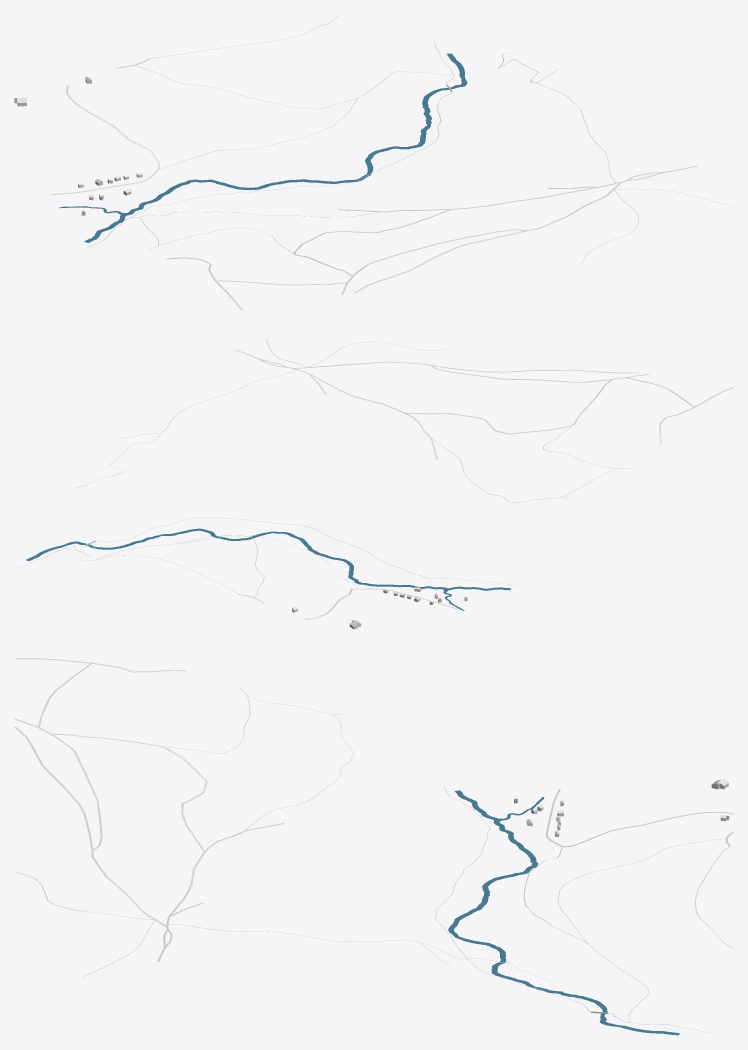
The model's file is objekty.glb.
The picture shows the model from 3 angles, top to bottom: view 1: azimuth 30°, elevation 25°; view 2: azimuth 150°, elevation 25°; view 3: azimuth 270°, elevation 25°; orthographic projection. The views are drawn at different scales.
Parts seen in each view (by area): view 1: Cesty_03_01, Voda_03_01; view 2: Cesty_03_01, Voda_03_01; view 3: Cesty_03_01, Voda_03_01.
Boxes of the visible parts, x1=… form: Cesty_03_01: x1=51, y1=15, x2=733, y2=310; Voda_03_01: x1=59, y1=53, x2=467, y2=242; Cesty_03_01: x1=14, y1=339, x2=733, y2=619; Voda_03_01: x1=26, y1=528, x2=510, y2=610; Cesty_03_01: x1=14, y1=658, x2=733, y2=1033; Voda_03_01: x1=448, y1=790, x2=679, y2=1035.
Size of the model in its own units: 891 by 168 by 1005.
